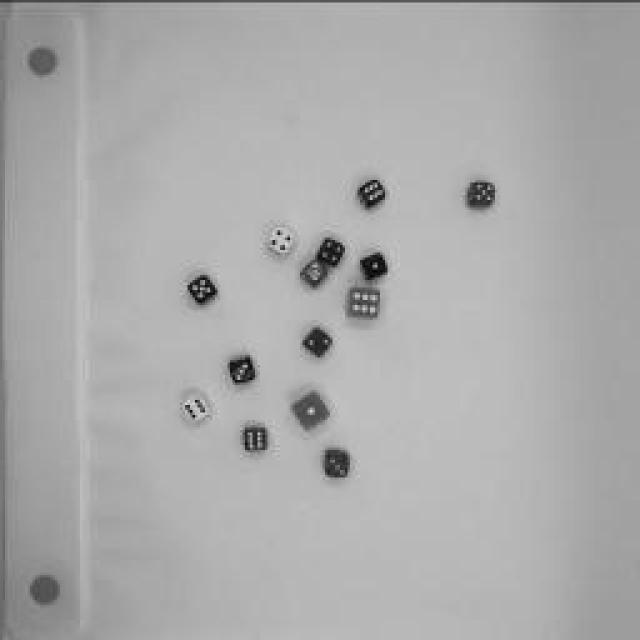dice_1: (287, 385, 335, 433), (356, 248, 392, 284)
dice_2: (299, 321, 336, 359)
dice_3: (295, 254, 333, 291), (225, 349, 260, 386), (318, 445, 352, 480)
dice_4: (312, 232, 348, 268), (260, 223, 300, 255)
dice_5: (184, 266, 221, 309), (462, 179, 500, 211)
dice_6: (352, 174, 390, 211), (179, 389, 216, 426), (240, 420, 272, 455)
